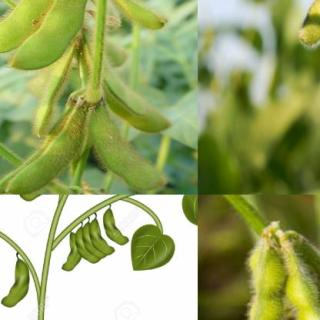soya: (6, 105, 88, 194), (90, 106, 167, 190), (10, 0, 88, 71), (218, 248, 286, 319), (30, 46, 75, 136), (106, 70, 172, 130), (0, 0, 61, 53), (282, 252, 319, 319), (292, 231, 320, 305), (110, 0, 165, 29), (1, 259, 30, 308), (296, 0, 319, 48), (102, 209, 130, 246), (88, 219, 115, 256), (75, 226, 100, 264), (83, 221, 108, 258), (60, 232, 82, 271)
